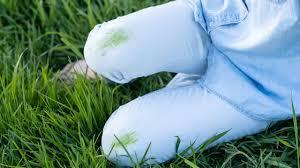earth: (101, 33, 130, 46), (115, 133, 135, 147)
